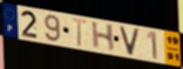1: (147, 30, 159, 61)
2: (20, 10, 38, 40)
9: (42, 14, 62, 44)
H: (91, 21, 116, 54)
T: (71, 16, 88, 48)
V: (118, 25, 141, 57)
